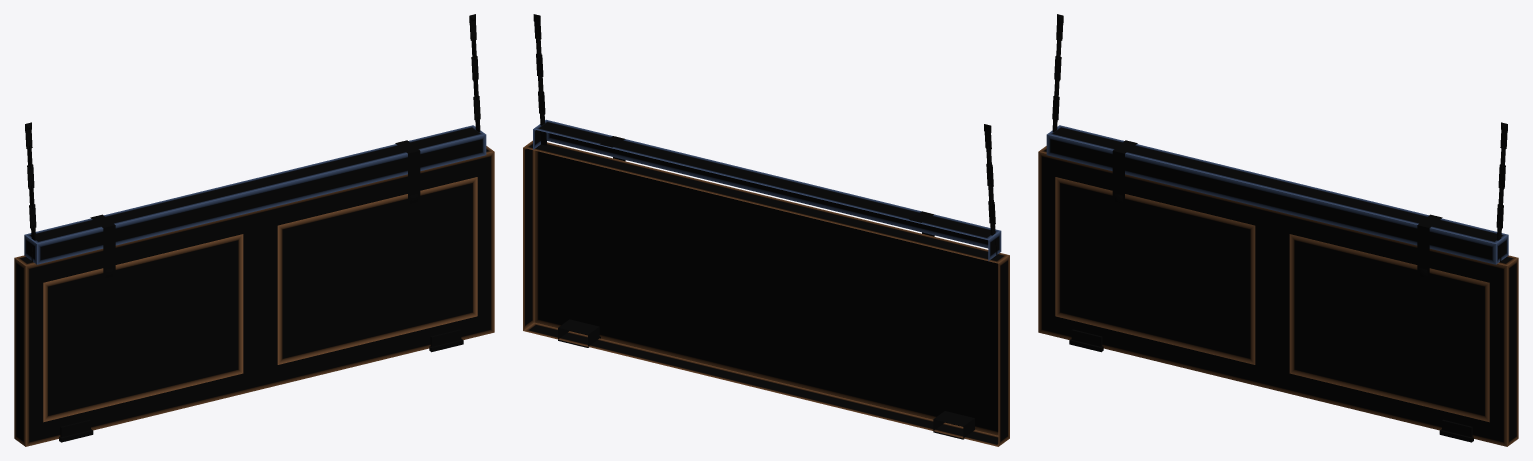
File: folded_berth_190.glb
The picture shows the model from 3 angles, left to right: view 1: azimuth 30°, elevation 25°; view 2: azimuth 150°, elevation 25°; view 3: azimuth 330°, elevation 25°; orthographic projection.
Parts seen in each view (by area): view 1: teak, frame, bedding, leather, steel, brass; view 2: frame, bedding, steel, brass; view 3: teak, frame, bedding, leather, steel, brass.
Part boxes in pixels (bbox=[...]): teak: bbox=[43, 177, 477, 422]; frame: bbox=[14, 146, 494, 446]; bedding: bbox=[24, 125, 486, 264]; leather: bbox=[90, 140, 420, 289]; steel: bbox=[25, 14, 480, 261]; brass: bbox=[59, 194, 463, 442]; frame: bbox=[523, 140, 1009, 446]; bedding: bbox=[533, 119, 1001, 260]; steel: bbox=[533, 14, 997, 255]; brass: bbox=[558, 319, 975, 439]; teak: bbox=[1055, 177, 1489, 422]; frame: bbox=[1038, 146, 1518, 446]; bedding: bbox=[1046, 125, 1508, 264]; leather: bbox=[1112, 140, 1442, 289]; steel: bbox=[1052, 14, 1507, 261]; brass: bbox=[1069, 194, 1473, 442].
Size of the model in its own units: 1.9 by 1.22 by 0.097.
